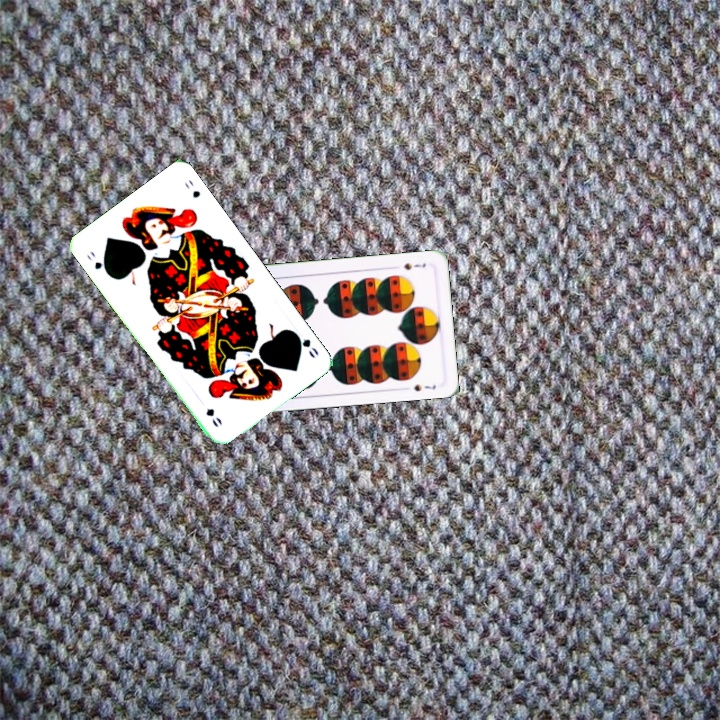GO: (289, 327, 321, 361), (83, 246, 112, 278)
S7: (400, 259, 428, 272)
